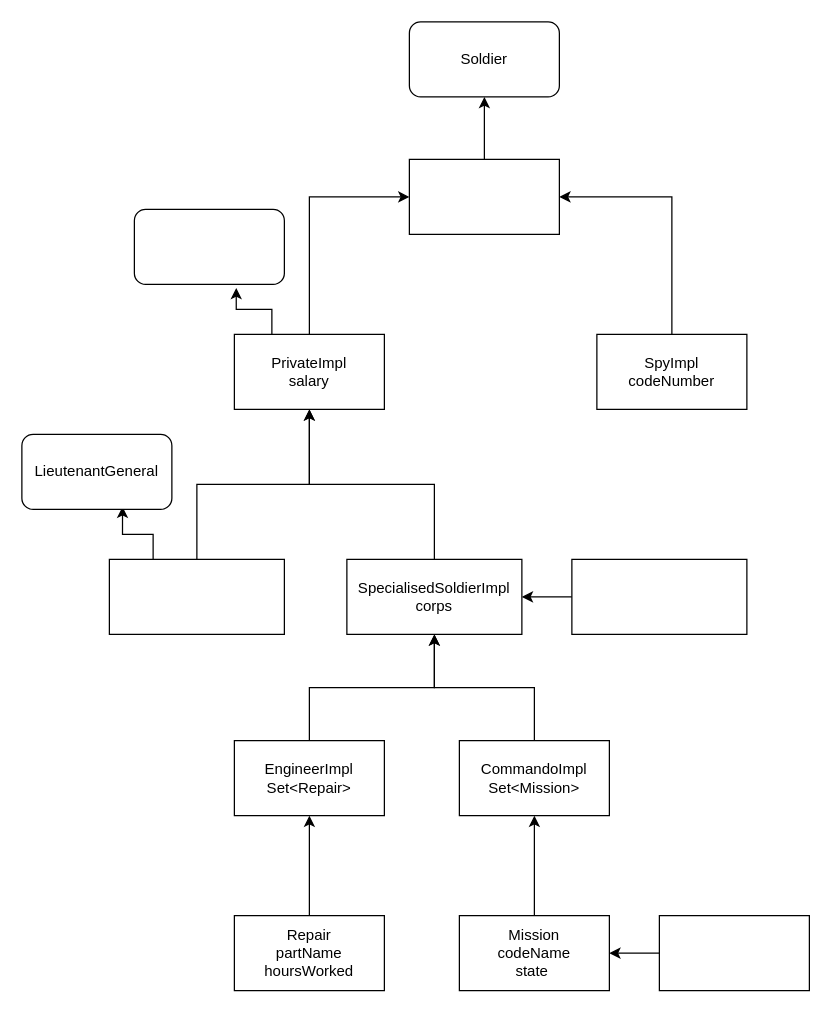
Image size: 831x1013. Some labels were removed from this diagram. The centre of each missing label's shape, as x and y in pixels:
enum State Airforces Marines: (659,596)
enum State inProgress Finished: (733,952)
LieutenantGeneralImpl Set<PrivateImpl>: (196,596)
Private: (208,246)
SoldierImpl id firstName lastName: (483,196)
